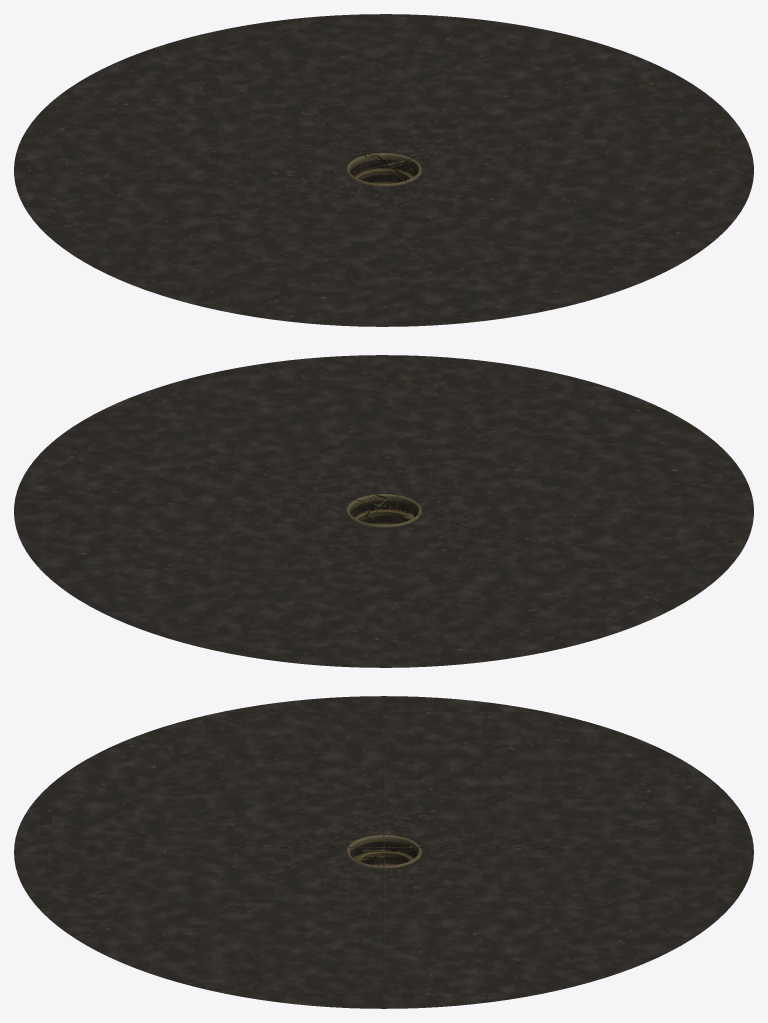
File: startup-menu.glb
3 renders of one model, top to bottom at view 1: azimuth 30°, elevation 25°; view 2: azimuth 150°, elevation 25°; view 3: azimuth 270°, elevation 25°, orthographic.
Parts seen in each view (by area): view 1: PlateOuter, Plate, Rods, Shaft, Bezel; view 2: PlateOuter, Plate, Rods, Shaft, Bezel; view 3: PlateOuter, Plate, Rods, Shaft, Bezel.
Part boxes in pixels (x1,y1,x2,y2): PlateOuter: (14,14,753,326); Plate: (278,126,488,214); Rods: (192,104,575,226); Shaft: (350,159,417,182); Bezel: (346,153,421,186); PlateOuter: (14,355,753,667); Plate: (279,467,489,555); Rods: (192,445,575,567); Shaft: (350,500,417,523); Bezel: (346,494,421,527); PlateOuter: (14,696,753,1008); Plate: (278,808,489,896); Rods: (218,754,549,940); Shaft: (350,841,417,864); Bezel: (346,835,421,868).
Bounding box in the file's own units: 26.74 × 3.26 × 26.74.
Materials: 10 (10 with a texture image).
